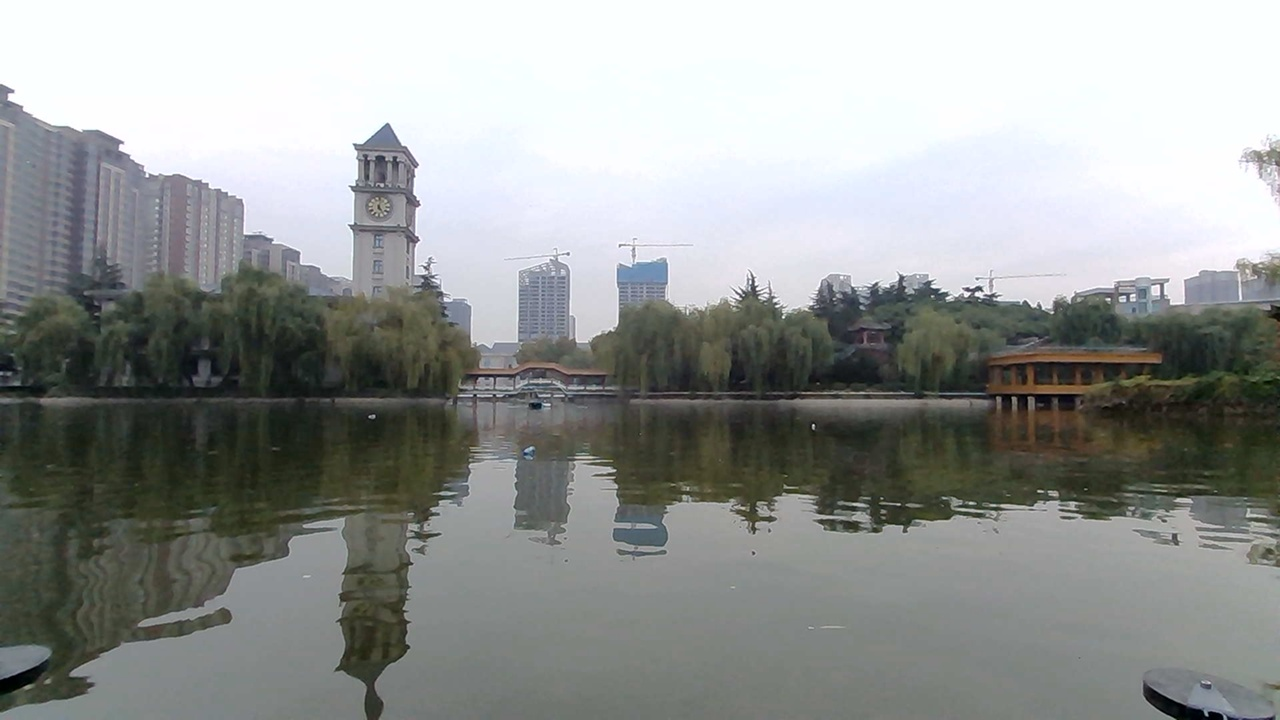bottle: (515, 433, 556, 462), (799, 417, 830, 438), (367, 402, 393, 421)
